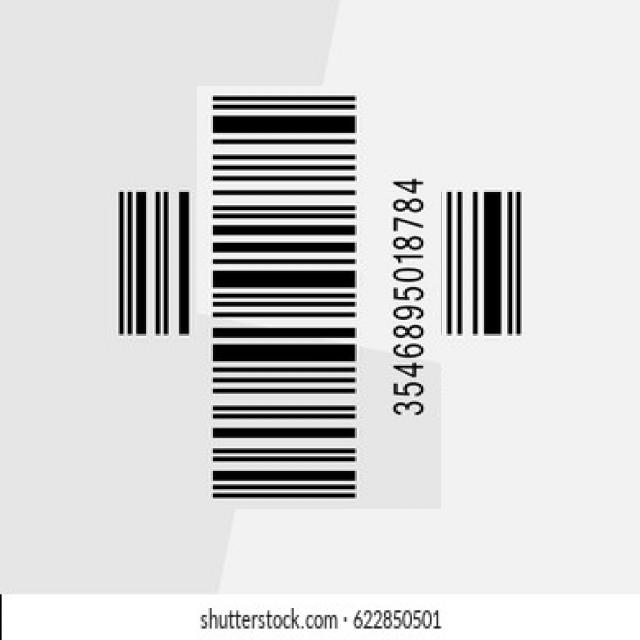Barkod: (152, 130, 486, 464)
